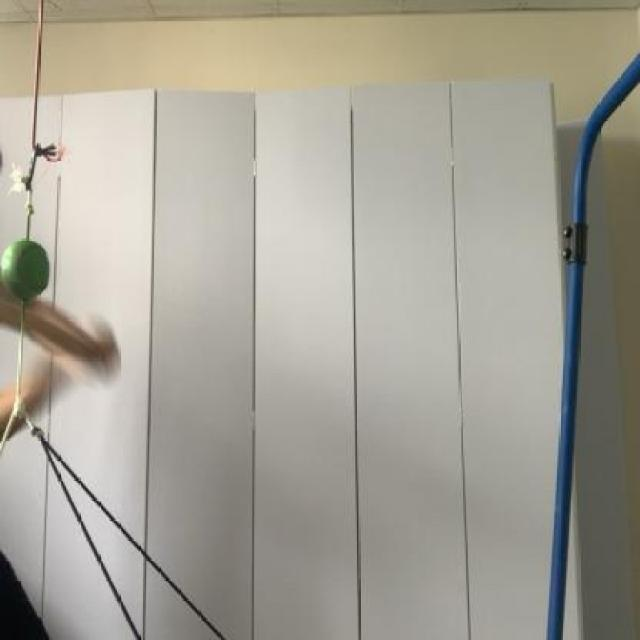baseball: (0, 230, 54, 308)
